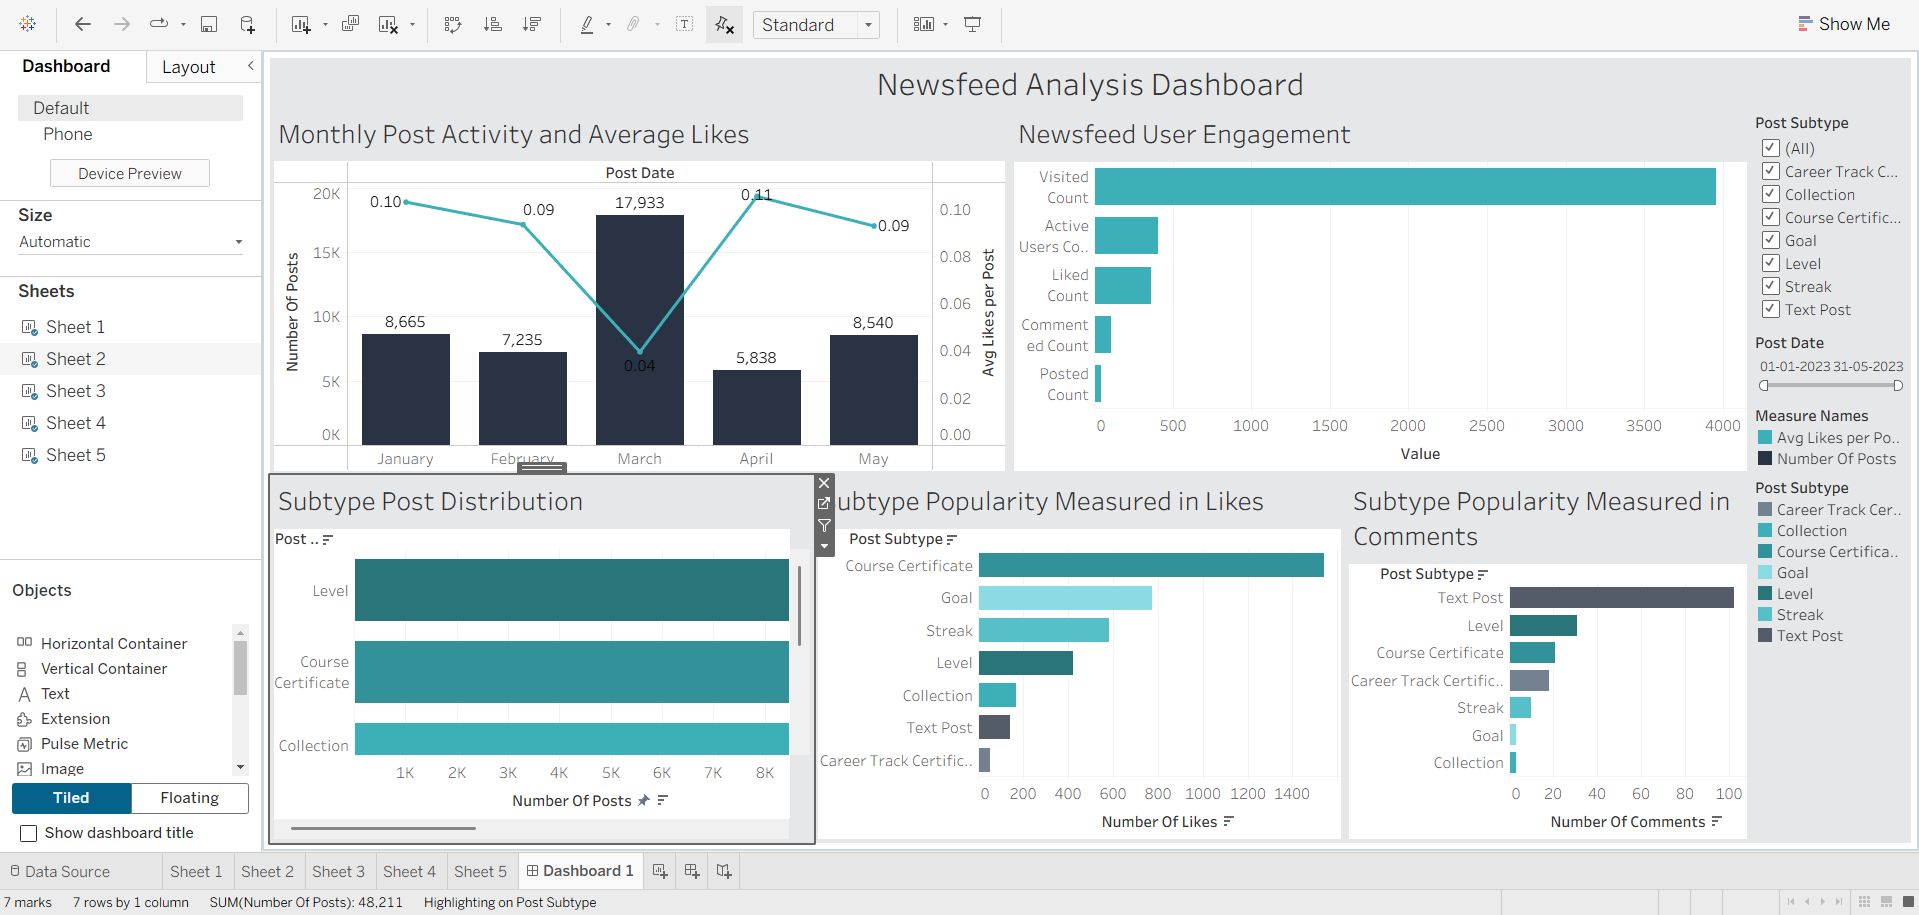

This screenshot's page, from the dashboard's own definition file:
{"tool":"tableau","page":{"name":"Dashboard 1","canvas":[1000,1000],"units":"permille","ordinal":0},"visuals":[{"type":"title","box":[10.7,10.1,978.5,63.2]},{"type":"worksheet","title":"Sheet 1","mark":"Line","rows":["number_of_posts","Calculation_1502794907558367233"],"cols":["post_date"],"box":[10.7,73.3,381.8,458.2]},{"type":"worksheet","title":"Sheet 5","mark":"Automatic","box":[392.5,73.3,381.9,458.2]},{"type":"filter","title":"Sheet 1","param":"[federated.1u2n35i1xwz2qw16idjyf1kn14rl].[none:post_subtype:nk]","box":[774.5,73.3,214.8,278.1]},{"type":"filter","title":"Sheet 1","param":"[federated.1u2n35i1xwz2qw16idjyf1kn14rl].[none:post_date:qk]","box":[774.5,351.4,214.8,92.3]},{"type":"legend","title":"Sheet 1","param":"[federated.1u2n35i1xwz2qw16idjyf1kn14rl].[:Measure Names]","box":[774.5,443.7,214.8,39.2]},{"type":"legend","title":"Sheet 2","param":"[federated.1u2n35i1xwz2qw16idjyf1kn14rl].[none:post_subtype:nk]","box":[774.5,482.9,214.8,39.2]},{"type":"worksheet","title":"Sheet 2","mark":"Automatic","rows":["post_subtype"],"cols":["number_of_posts"],"box":[10.7,531.6,280.5,458.3]},{"type":"worksheet","title":"Sheet 3","mark":"Automatic","rows":["post_subtype"],"cols":["number_of_likes"],"box":[291.2,531.6,273.8,458.3]},{"type":"worksheet","title":"Sheet 4","mark":"Automatic","rows":["post_subtype"],"cols":["number_of_comments"],"box":[565.1,531.6,209.4,458.3]}]}

Visuals, with their boxes on the dashboard's canvas, which has no fixed pixel size, in thousandths of its width and height (x1, y1, x2, y2). These are canvas units, not pixel positions in the 1919x915 screenshot, which may show the page scaled, cropped or inside an application window:
title: box=[11, 10, 989, 73]
"Sheet 1" worksheet (Line marks): box=[11, 73, 392, 532]
"Sheet 5" worksheet: box=[392, 73, 774, 532]
"Sheet 1" filter: box=[774, 73, 989, 351]
"Sheet 1" filter: box=[774, 351, 989, 444]
"Sheet 1" legend: box=[774, 444, 989, 483]
"Sheet 2" legend: box=[774, 483, 989, 522]
"Sheet 2" worksheet: box=[11, 532, 291, 990]
"Sheet 3" worksheet: box=[291, 532, 565, 990]
"Sheet 4" worksheet: box=[565, 532, 774, 990]
